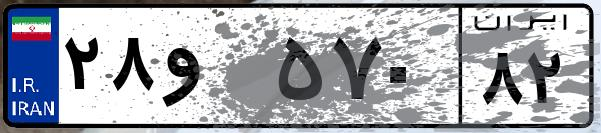0: (385, 28, 445, 110)
2: (57, 26, 110, 100), (525, 38, 570, 115)
5: (270, 28, 330, 110)
7: (330, 28, 385, 110)
8: (475, 38, 525, 113), (110, 28, 158, 98)
و: (158, 20, 270, 120)
